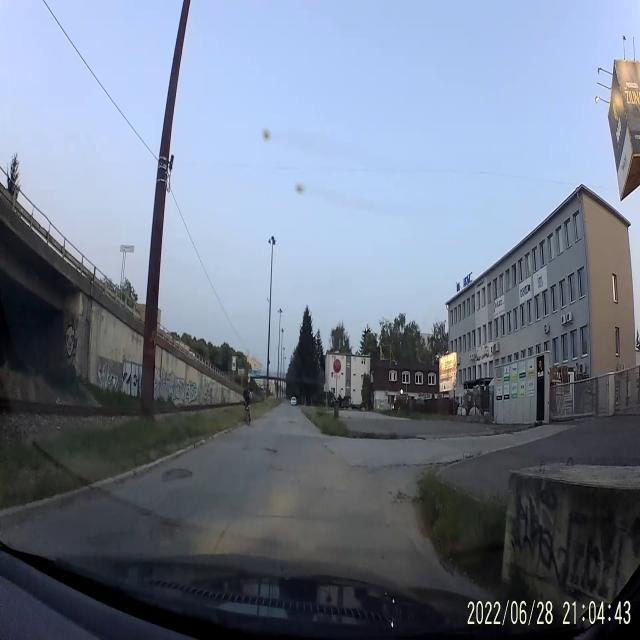Pothole: (162, 465, 196, 483), (391, 486, 419, 507), (262, 444, 283, 462)
